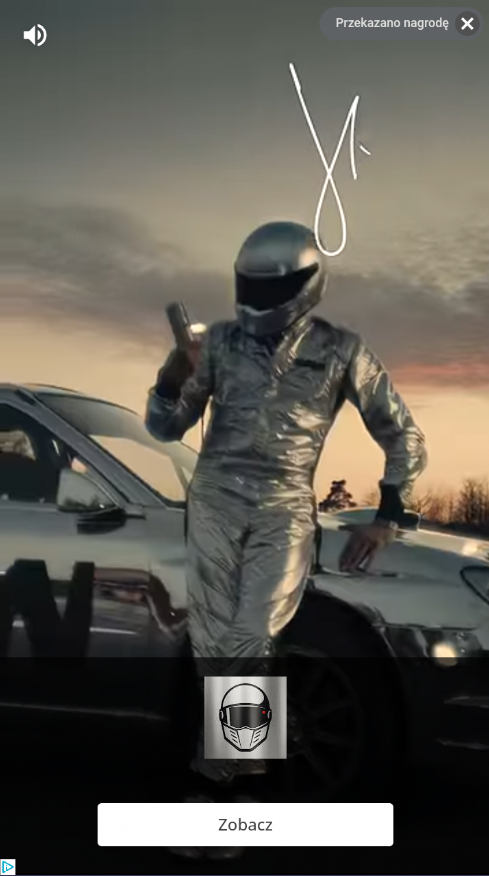close_button: (456, 10, 478, 36)
